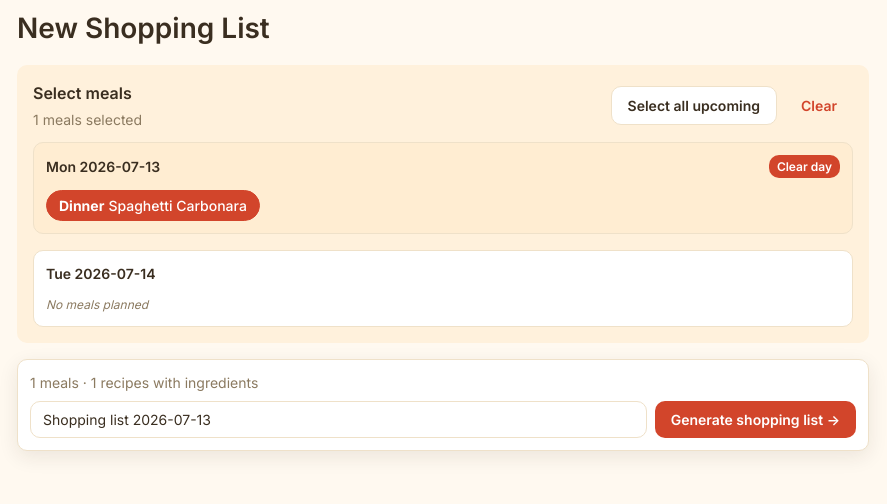
Test: ShoppingListNewView › shows an inline error when starting generation fails
The width and height of the screenshot is (887, 504).
Click the button with class "btn--primary" at (755, 420), box [655,401,856,438]
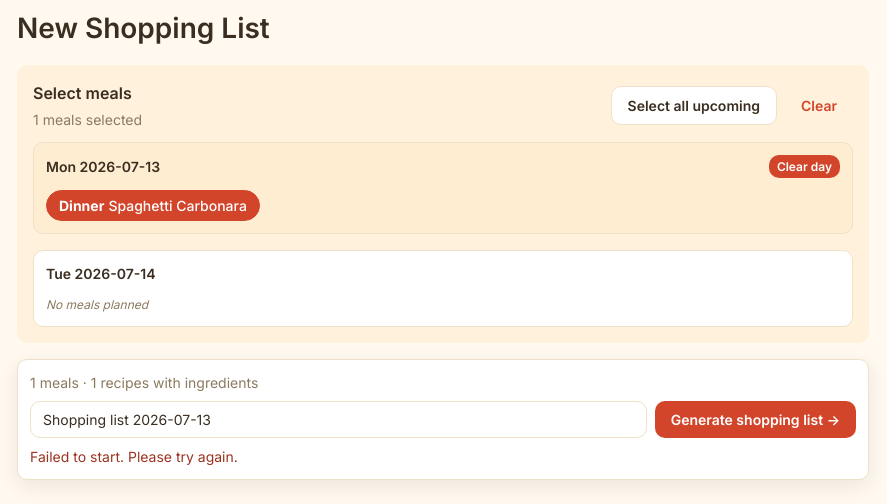
Expected: the text "Failed to start. Please try again." is shown, [30,448,238,465]
